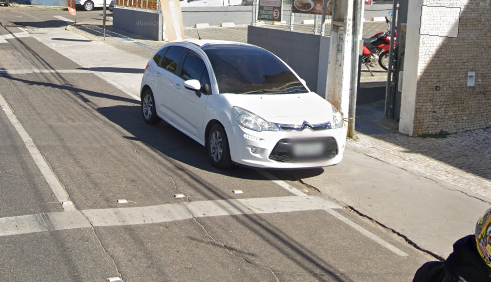car: (137, 28, 355, 173)
